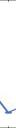line: (0, 105, 16, 118)
